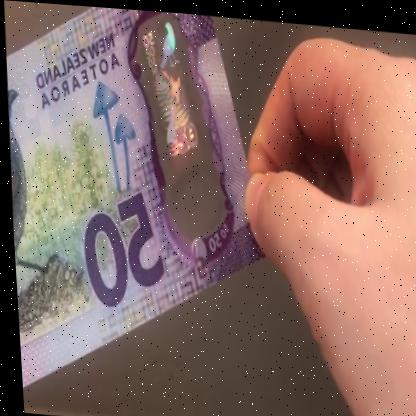50B: (136, 13, 213, 234)
